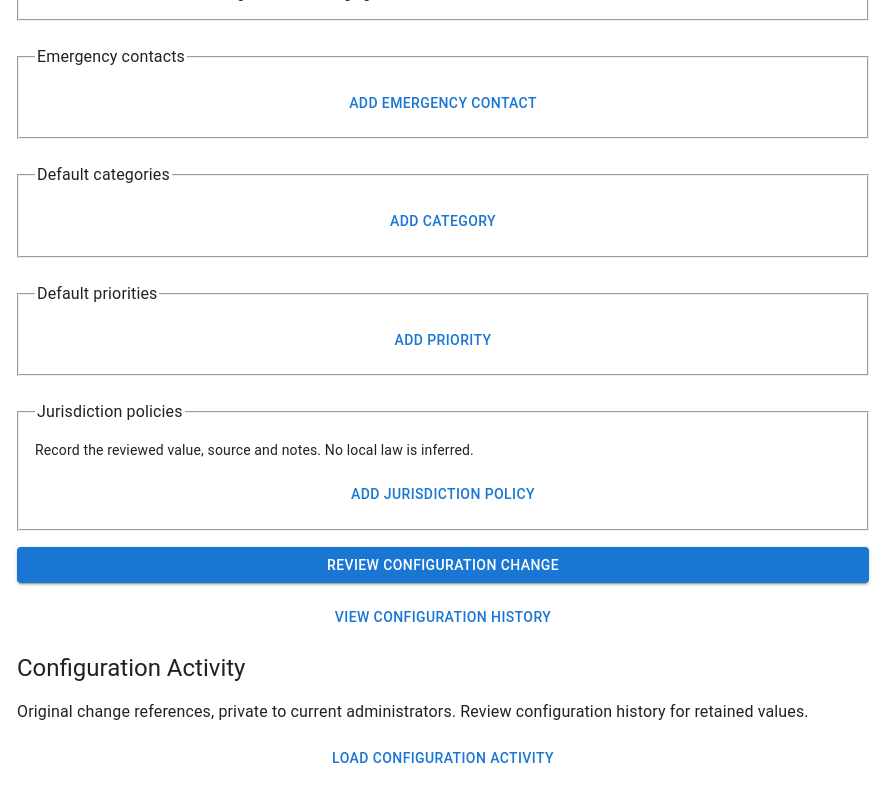
Scenario: records Activity failure and explicit recovery without private references or cursor data
(page scrolled)
Click the button "Load configuration Activity".
click(443, 758)  # box [17,740,869,776]
(page scrolled)
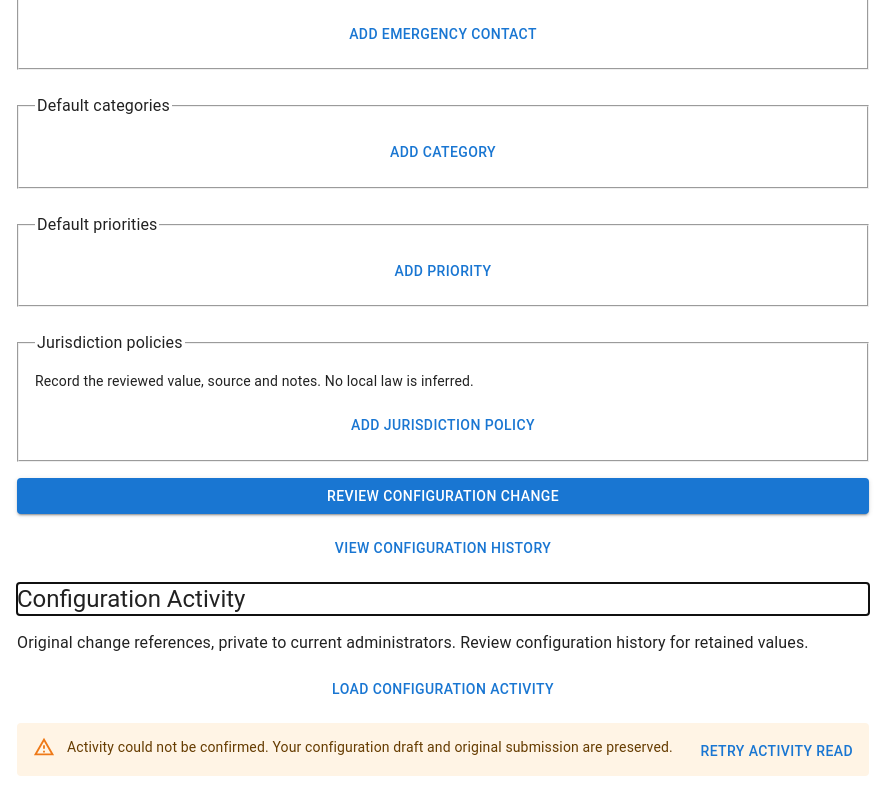
Click the button "Retry Activity read".
click(777, 751)  # box [692,733,861,770]
(page scrolled)
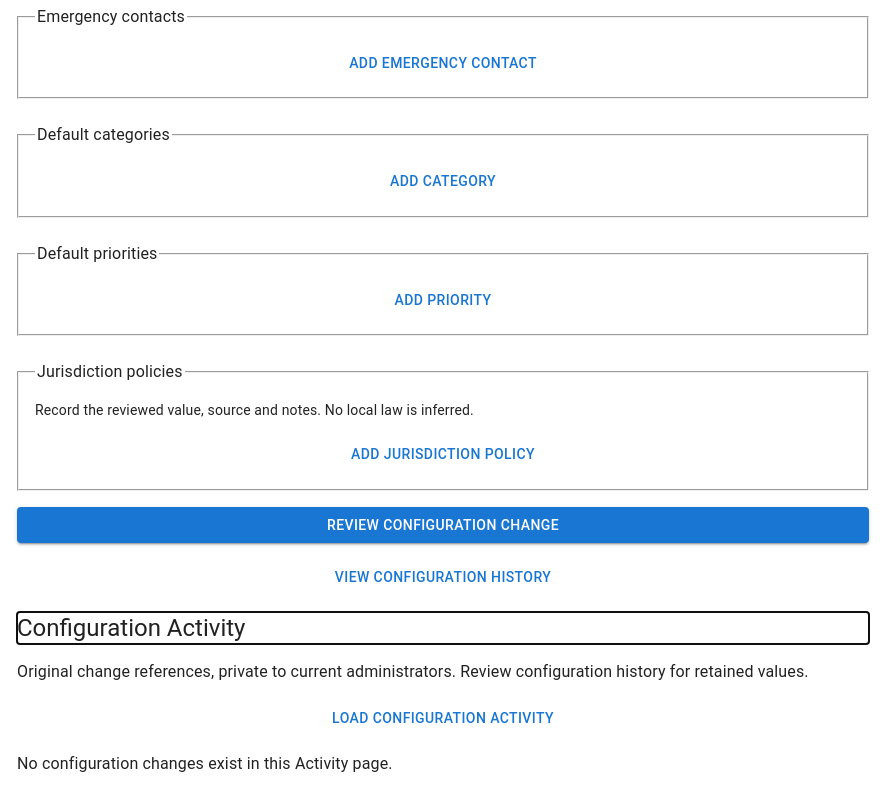
Now the text "No configuration changes exist in this Activity page." is shown, box [17,754,393,773]
